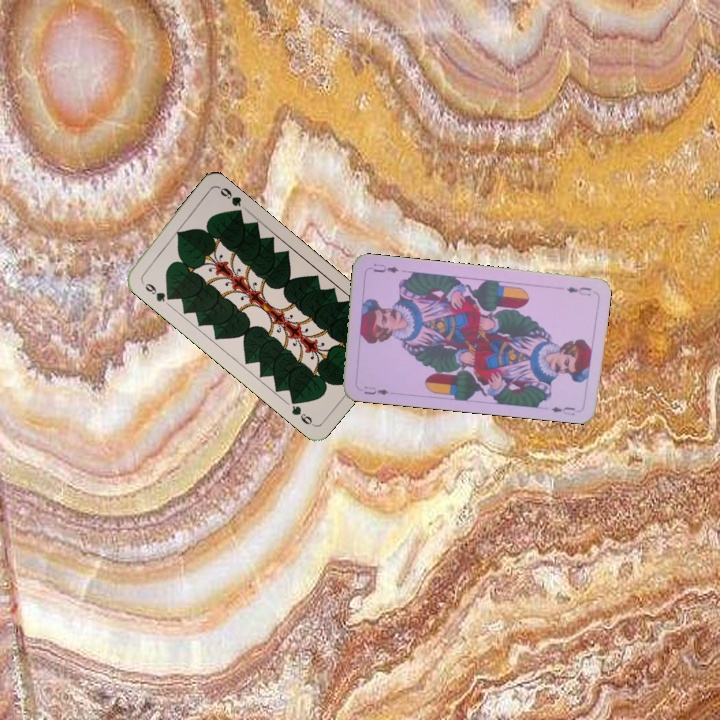EU: (360, 382, 391, 398), (563, 283, 594, 299)
G9: (137, 277, 174, 305)
